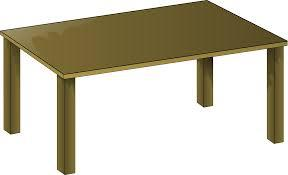desk: (1, 14, 288, 169)
